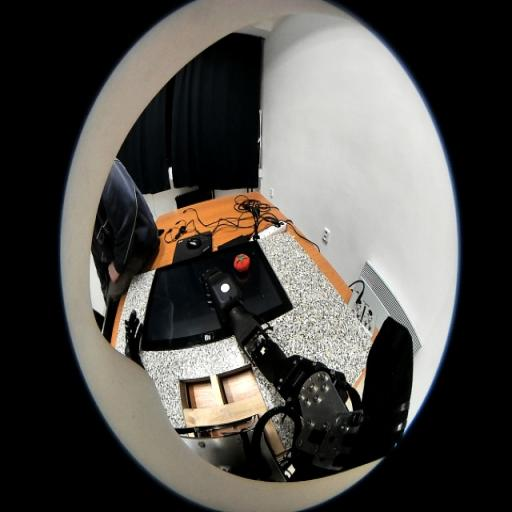LeftHand: (126, 334, 139, 349)
RightHand: (204, 268, 218, 277)
Tomato: (233, 254, 250, 272)
